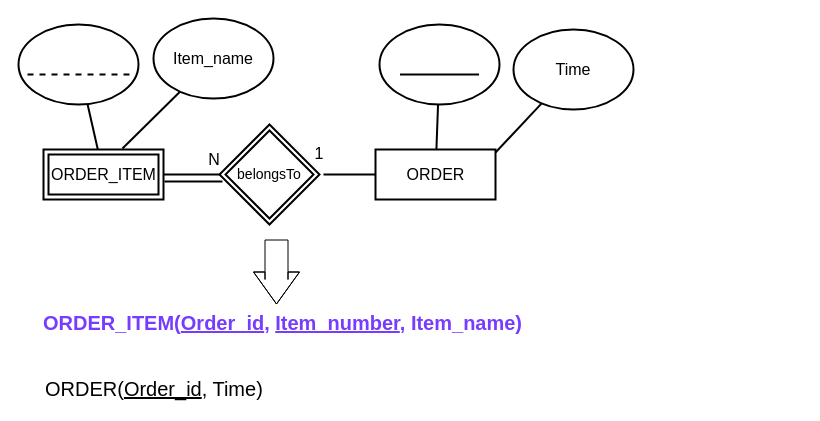
The diagram is 820 pixels wide and 421 high, and some of its shapes have lost their labels. The centre of each missing label's shape, as x and y in pixels:
Item_number: point 78,64
Order_id: point 439,64
